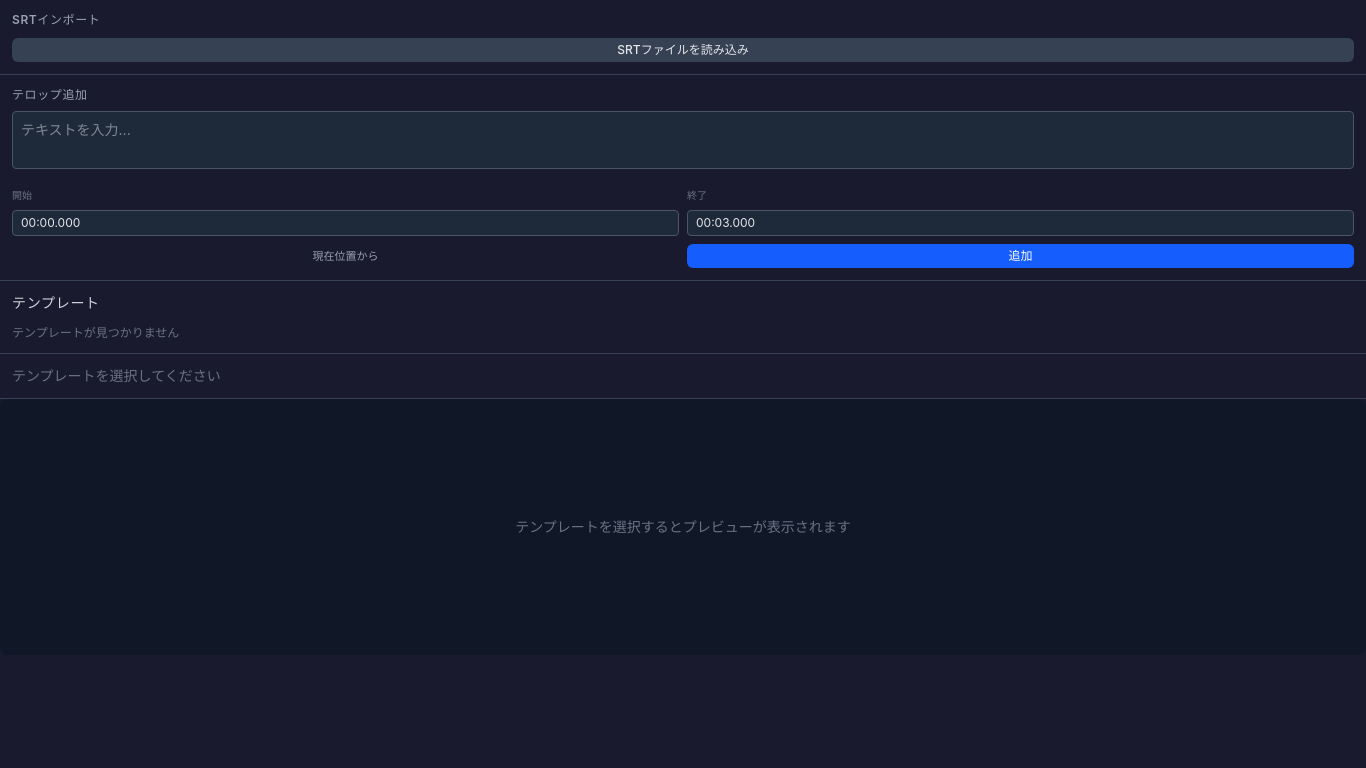
TelopPanel › SRT import › shows 0 count message when SRT file is empty
Click the button "SRTファイルを読み込み" at x=683, y=50, box [12, 38, 1354, 62]
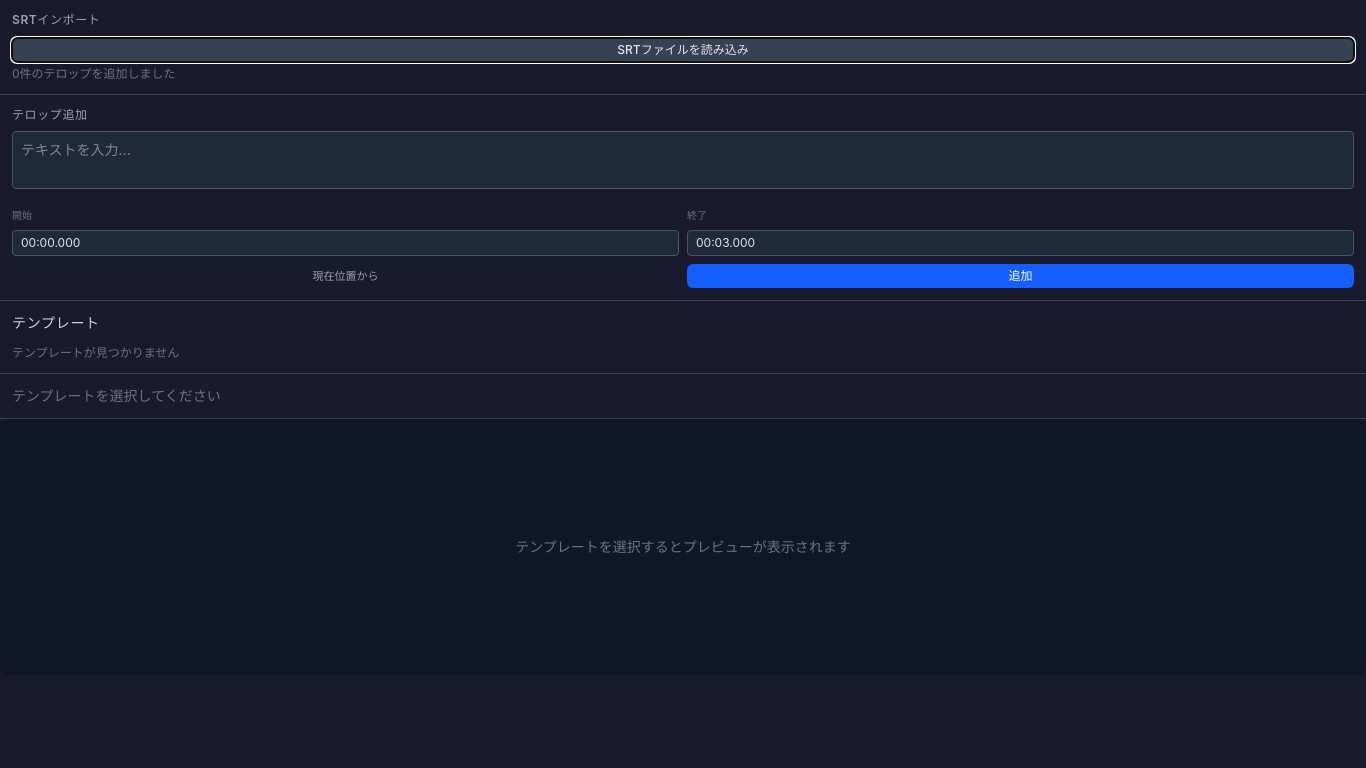
Result: the text "0件のテロップを追加しました" is shown at [12, 66, 176, 81]
